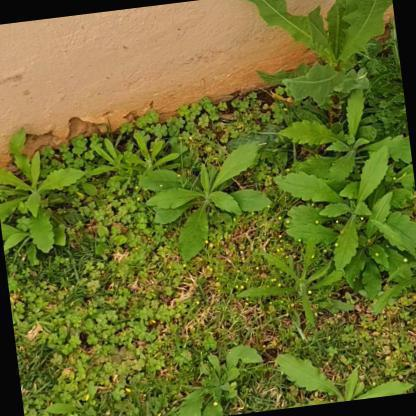Weeds: (266, 141, 415, 309), (229, 0, 403, 113), (140, 135, 276, 265), (275, 86, 412, 184), (0, 122, 93, 266), (232, 237, 347, 333), (273, 338, 415, 409), (349, 9, 409, 150), (165, 337, 268, 415), (360, 222, 415, 331), (119, 123, 186, 193), (89, 131, 138, 189)
